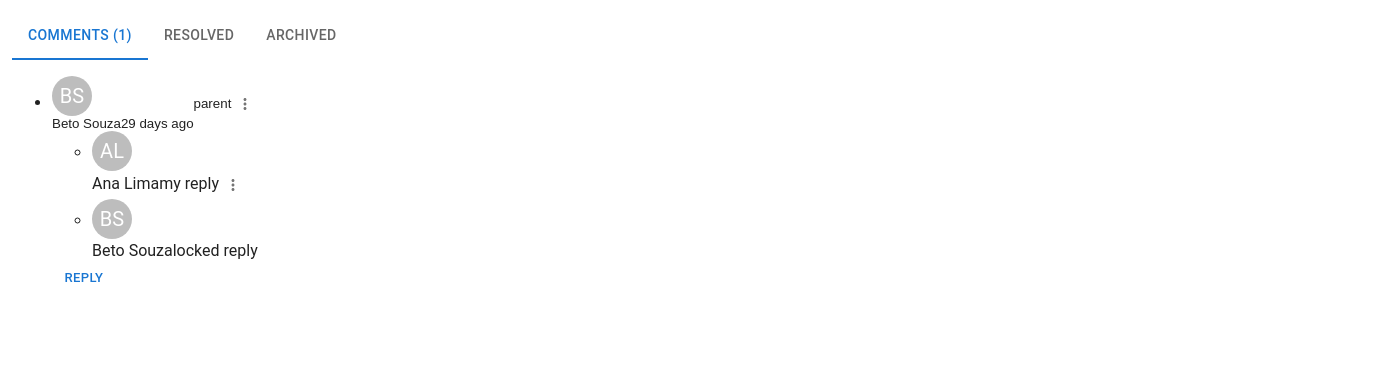
Test case: <CommentsPanel /> replies › reply rows carry their OWN flag-driven menu: Edit and Delete hit the reply id
Expected: the text "my reply" is shown, [159,174,219,193]
Edit: prefilled field → Save → adapter.update with the REPLY id.
Step 1. Click the button named "Reply actions" → (233, 185), box [219,171,247,199]
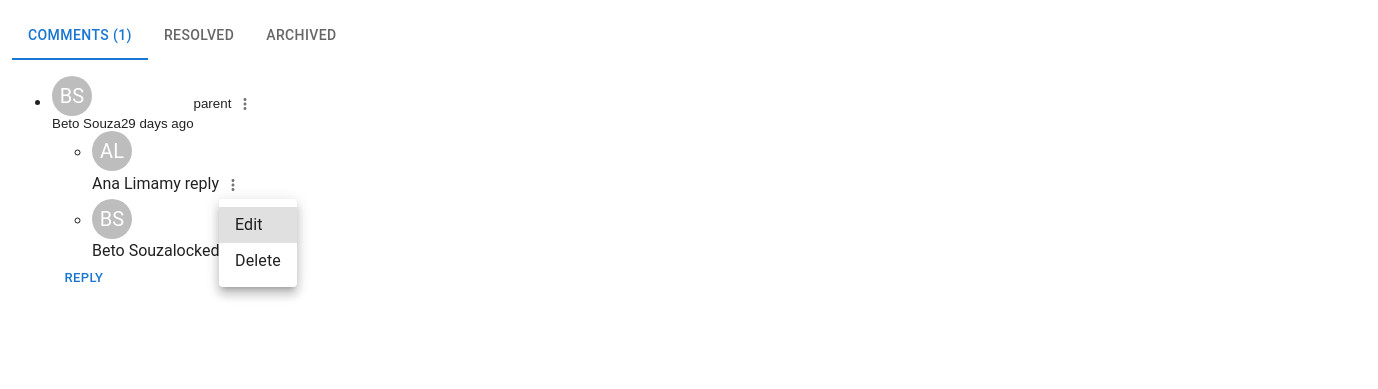
Step 2. Click the menu item "Edit" → (258, 225), box [219,207,297,243]
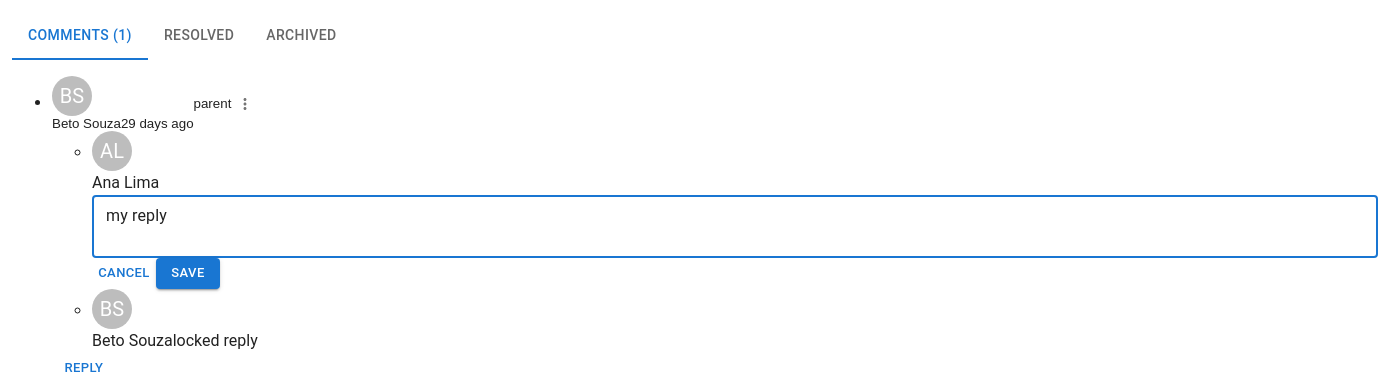
Expected: the text box named "Edit text" holds "my reply"
Step 3. Replace the text in the text box named "Edit text" with "revised reply" → (735, 226), box [106,204,1364,250]
Step 4. Click the button "Save" → (188, 273), box [156,258,220,289]
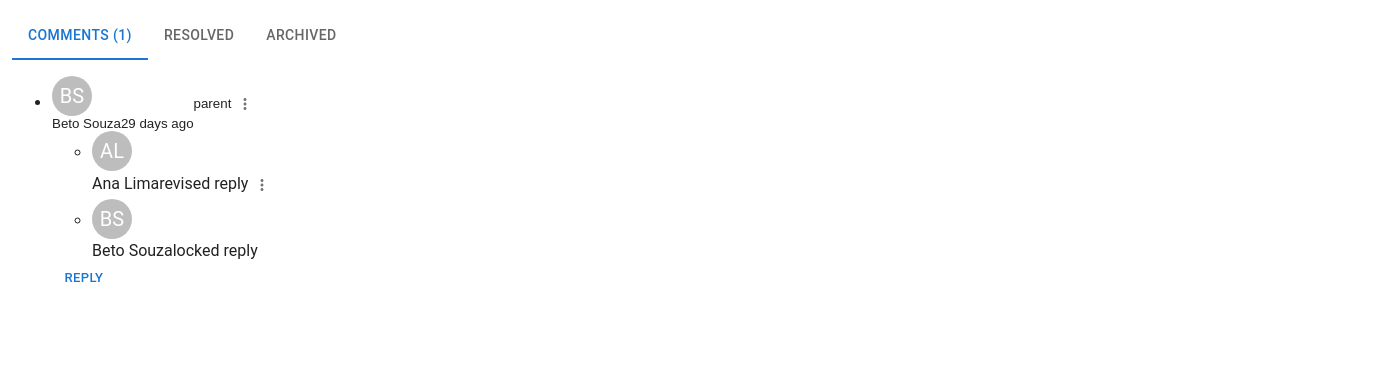
Expected: the text "revised reply" is shown, [159,174,248,193]
Delete hits the reply id and the row leaves after the refetch.
Step 5. Click the button named "Reply actions" → (262, 185), box [248,171,276,199]
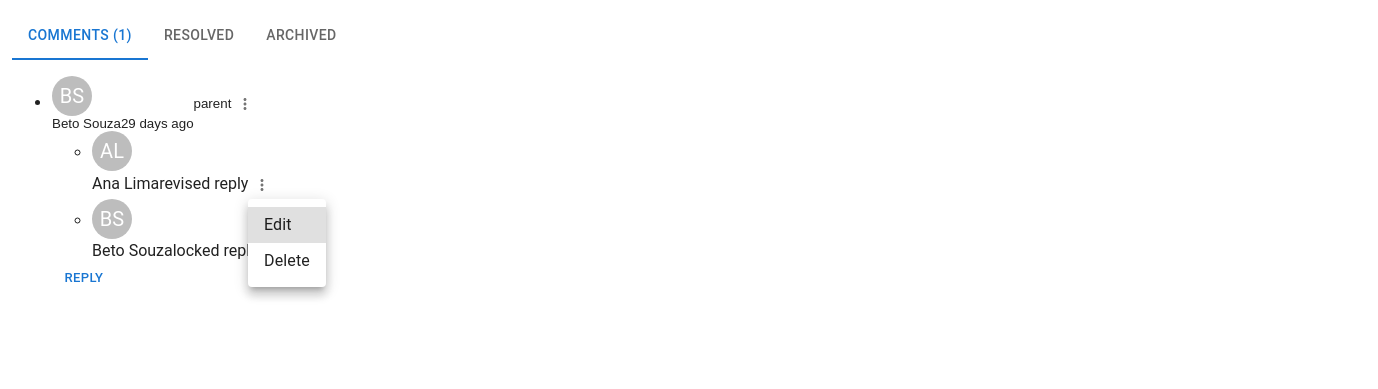
Step 6. Click the menu item "Delete" → (287, 260), box [264,251,310,270]
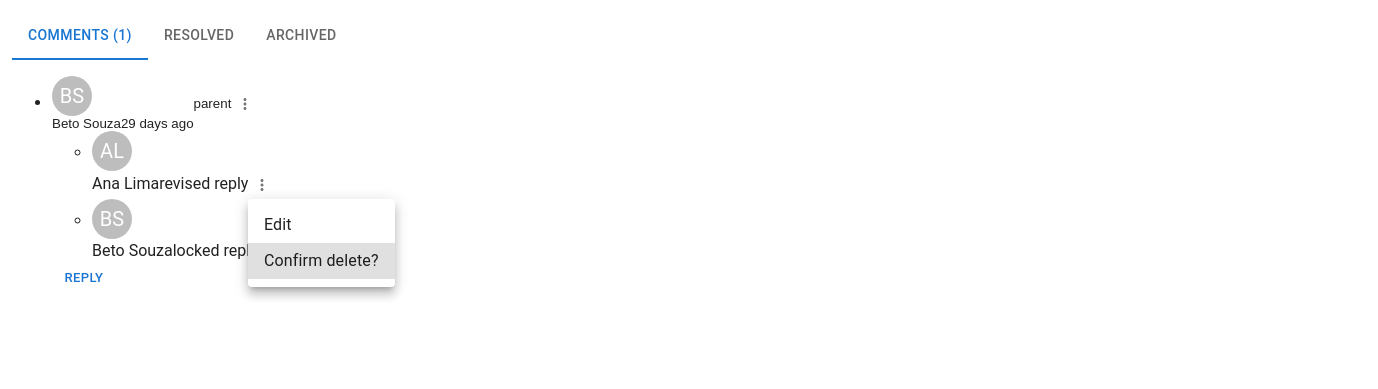
Step 7. Click the menu item "Confirm delete?" → (321, 261), box [248,243,395,279]
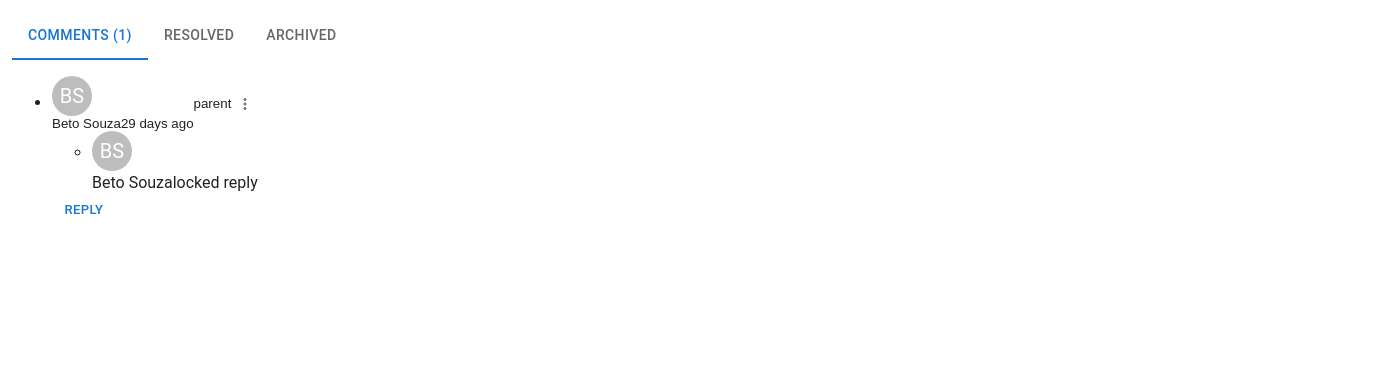
Expected: the text "revised reply" is gone
